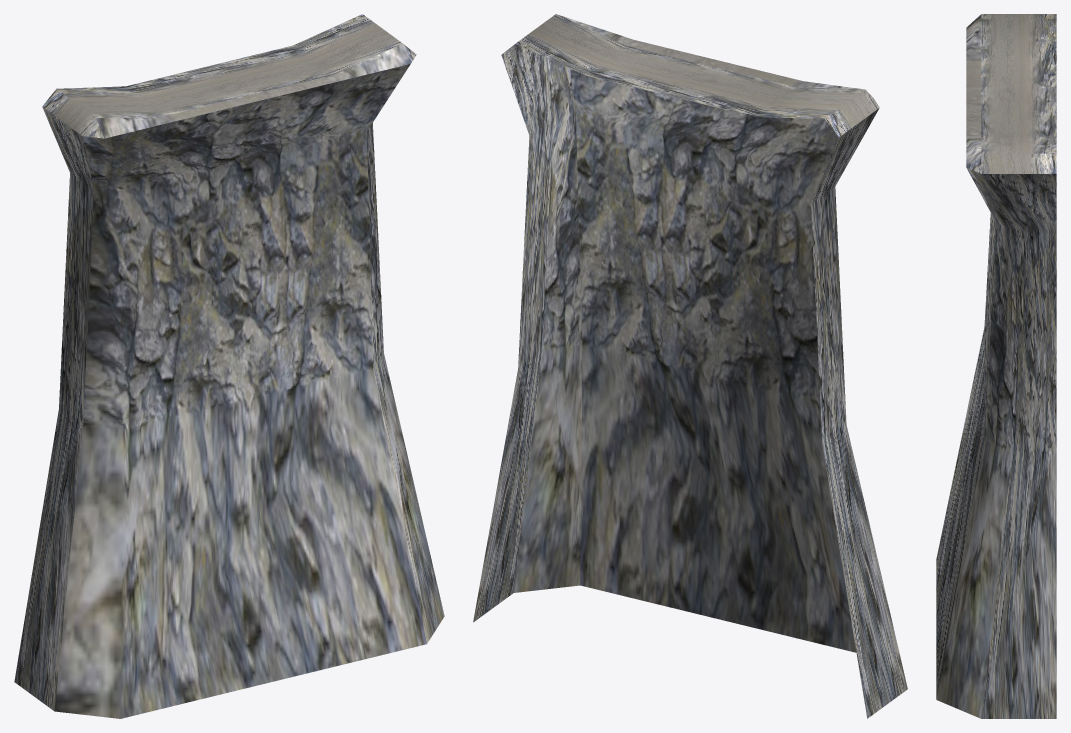
The model's file is PlatformSimple_Edge01.FBX.
3 views of the same model, side by side, from view 1: azimuth 30°, elevation 25°; view 2: azimuth 150°, elevation 25°; view 3: azimuth 270°, elevation 25° (orthographic). The views are drawn at different scales.
Parts seen in each view (by area): view 1: Edge01; view 2: Edge01; view 3: Edge01.
Part boxes in pixels (x1,y1,x2,y2): Edge01: (14,14,444,718); Edge01: (473,14,907,718); Edge01: (936,14,1056,718).
Bounding box in the file's own units: 1400 × 2000 × 400.
2 materials, 2 textured.
